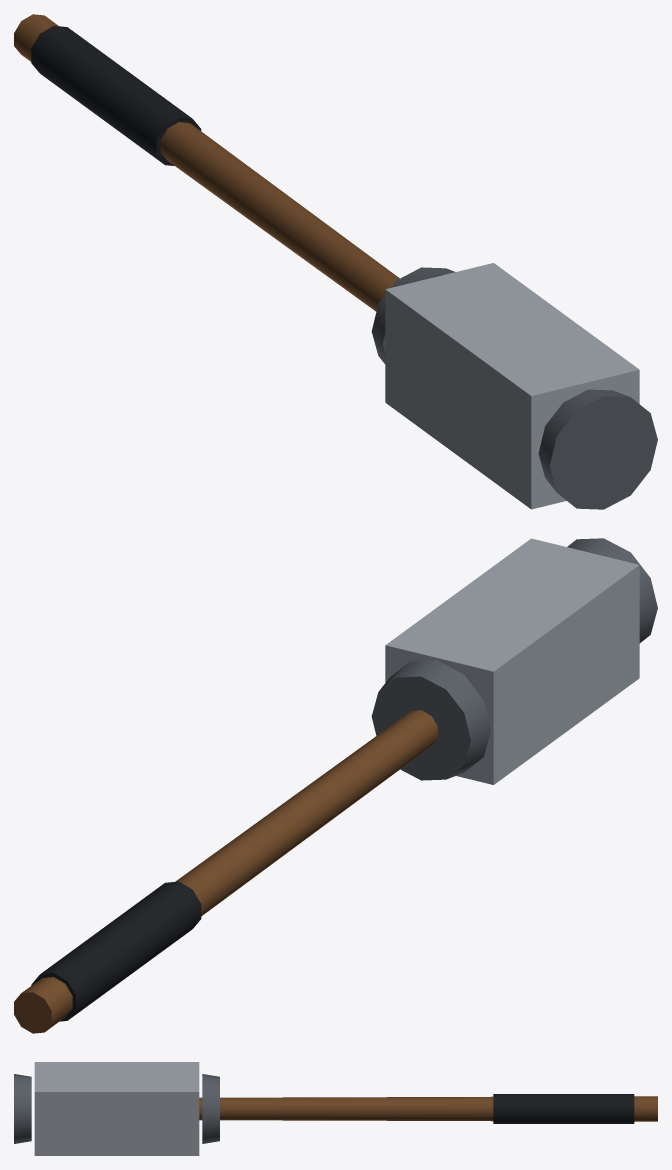
Rendered from Sledgehammer.gltf.
The picture shows the model from 3 angles, top to bottom: view 1: azimuth 30°, elevation 25°; view 2: azimuth 150°, elevation 25°; view 3: azimuth 270°, elevation 25°; orthographic projection. The views are drawn at different scales.
Visible parts, largest first — view 1: WeaponSledgehammer; view 2: WeaponSledgehammer; view 3: WeaponSledgehammer.
Boxes of the visible parts, x1=… form: WeaponSledgehammer: x1=14, y1=14, x2=657, y2=509; WeaponSledgehammer: x1=14, y1=538, x2=657, y2=1033; WeaponSledgehammer: x1=14, y1=1062, x2=657, y2=1155.
Bounding box in the file's own units: 0.12 × 0.12 × 1.1.
